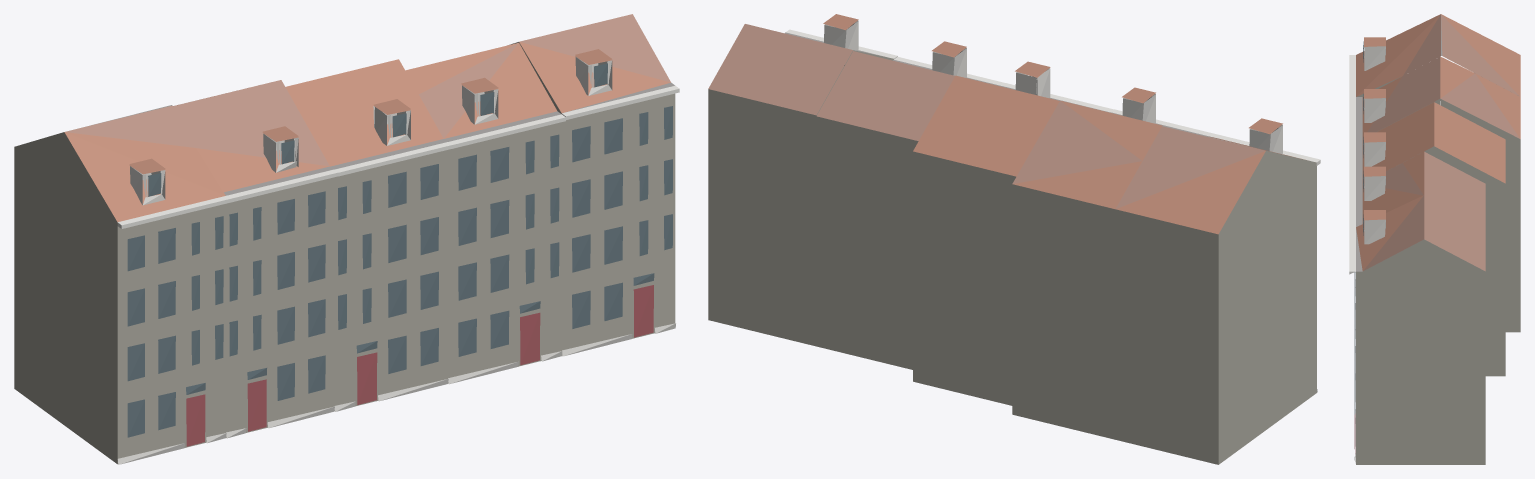
File: chunk-face-lampong-2-20-r1.lod2.glb
The picture shows the model from 3 angles, left to right: view 1: azimuth 30°, elevation 25°; view 2: azimuth 150°, elevation 25°; view 3: azimuth 270°, elevation 25°; orthographic projection. The views are drawn at different scales.
Parts seen in each view (by area): view 1: lod2; view 2: lod2; view 3: lod2.
Part boxes in pixels (bbox=[...]): lod2: bbox=[14, 14, 679, 464]; lod2: bbox=[708, 14, 1320, 464]; lod2: bbox=[1349, 14, 1520, 464].
Size of the model in its own units: 30.9 by 15.53 by 10.3.
